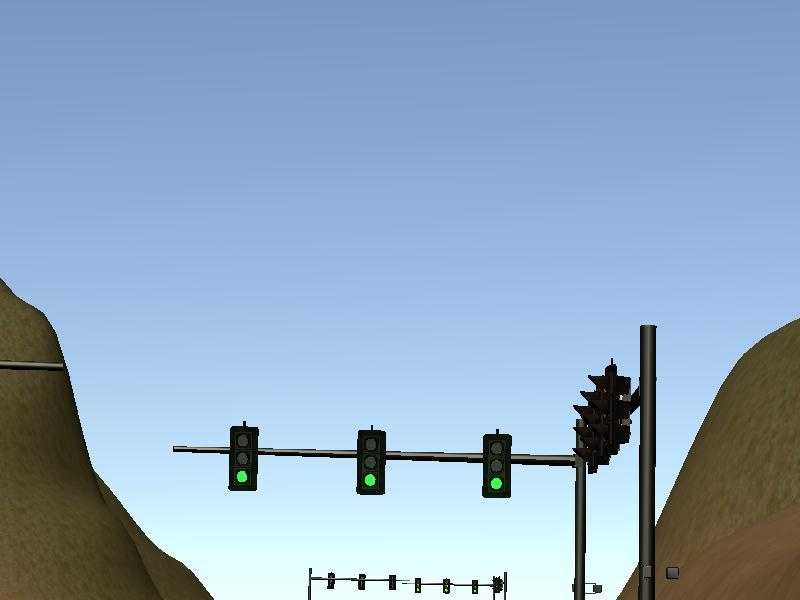GREEN: (227, 425, 260, 494), (480, 434, 512, 499), (357, 429, 387, 496)
